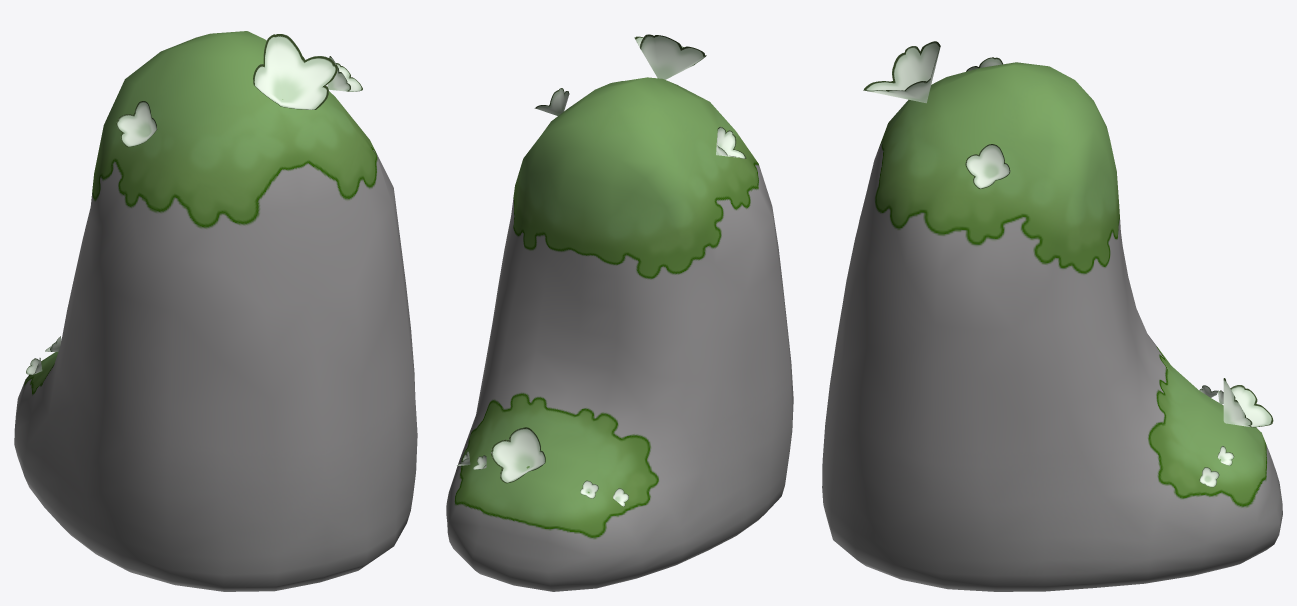
Rendered from rock_1_low.fbx.
The picture shows the model from 3 angles, left to right: view 1: azimuth 30°, elevation 25°; view 2: azimuth 150°, elevation 25°; view 3: azimuth 270°, elevation 25°; orthographic projection. The views are drawn at different scales.
Parts seen in each view (by area): view 1: rock_1_low, rock_1_flower1, rock_1_flower; view 2: rock_1_low, rock_1_flower4, rock_1_flower1, rock_1_flower; view 3: rock_1_low, rock_1_flower1, rock_1_flower4, rock_1_flower.
Part boxes in pixels (<box>): rock_1_low: <box>14,31,417,591</box>; rock_1_flower1: <box>253,34,337,109</box>; rock_1_flower: <box>116,56,362,147</box>; rock_1_low: <box>446,77,793,591</box>; rock_1_flower4: <box>491,427,545,483</box>; rock_1_flower1: <box>634,34,706,79</box>; rock_1_flower: <box>534,88,746,158</box>; rock_1_low: <box>822,62,1282,591</box>; rock_1_flower1: <box>863,41,940,103</box>; rock_1_flower4: <box>1223,378,1273,427</box>; rock_1_flower: <box>965,57,1010,188</box>.
Bounding box in the file's own units: 2.53 × 4.2 × 3.45.
Materials: 2 (2 with a texture image).
